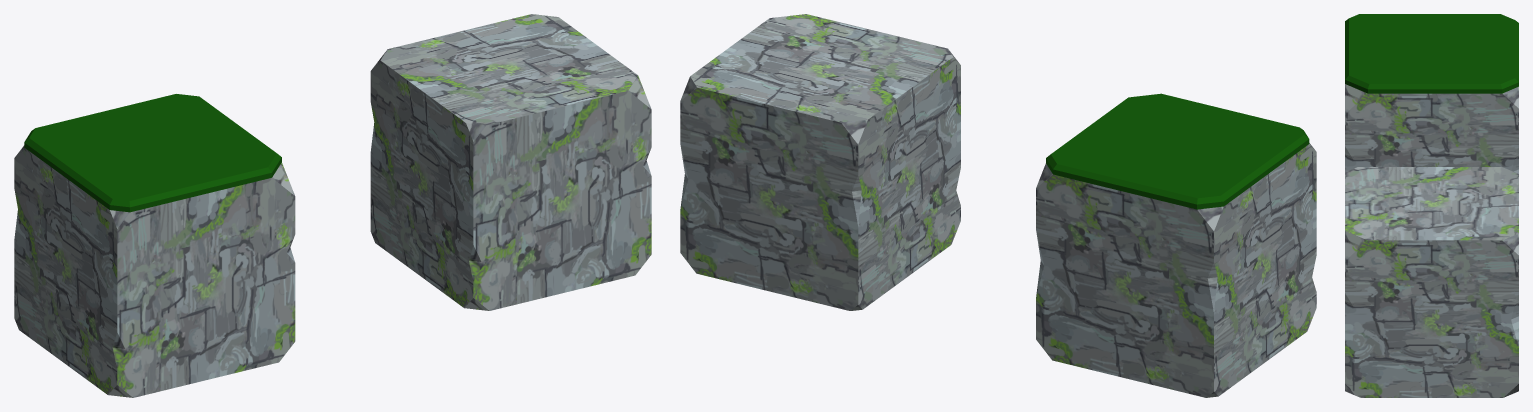
Rendered from cliffscubetiles2.glb.
3 views of the same model, side by side, from view 1: azimuth 30°, elevation 25°; view 2: azimuth 150°, elevation 25°; view 3: azimuth 270°, elevation 25° (orthographic). The views are drawn at different scales.
Visible parts, largest first — view 1: Cube, Cube.001; view 2: Cube, Cube.001; view 3: Cube.001, Cube.
Part boxes in pixels (left/top/right/bottom): Cube: left=14, top=94, right=295, bottom=397; Cube.001: left=370, top=14, right=651, bottom=310; Cube: left=1036, top=93, right=1316, bottom=397; Cube.001: left=680, top=14, right=960, bottom=310; Cube.001: left=1345, top=167, right=1518, bottom=397; Cube: left=1345, top=14, right=1518, bottom=173.
Bounding box in the file's own units: 6 × 2.1 × 2.
Materials: 2 (2 with a texture image).
